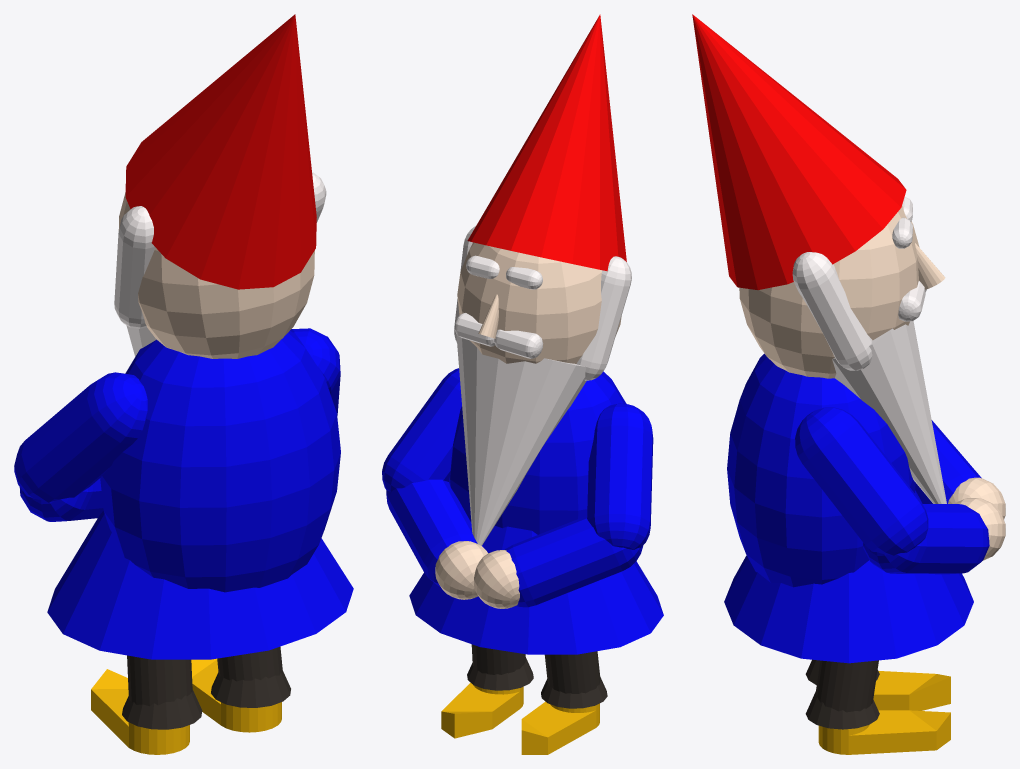
The model's file is Porsche_911_GT3.obj.
The picture shows the model from 3 angles, left to right: view 1: azimuth 30°, elevation 25°; view 2: azimuth 150°, elevation 25°; view 3: azimuth 270°, elevation 25°; orthographic projection. The views are drawn at different scales.
Visible parts, largest first — view 1: Mesh6 Component1 skpE32A1 Model, Mesh22 Component1 skpE32A1 Model, Mesh1 Component1 skpE32A1 Model, Mesh13 Component1 skpE32A1 Model, Mesh9 Component1 skpE32A1 Model, Mesh3 Component1 skpE32A1 Model, Mesh5 Component1 skpE32A1 Model, Mesh19 Component1 skpE32A1 Model, Mesh4 Component1 skpE32A1 Model, Mesh2 Component1 skpE32A1 Model, Mesh10 Component1 skpE32A1 Model, Mesh7 Component1 skpE32A1 Model; view 2: Mesh22 Component1 skpE32A1 Model, Mesh1 Component1 skpE32A1 Model, Mesh14 Component1 skpE32A1 Model, Mesh13 Component1 skpE32A1 Model, Mesh6 Component1 skpE32A1 Model, Mesh9 Component1 skpE32A1 Model, Mesh10 Component1 skpE32A1 Model, Mesh7 Component1 skpE32A1 Model, Mesh8 Component1 skpE32A1 Model, Mesh3 Component1 skpE32A1 Model, Mesh5 Component1 skpE32A1 Model, Mesh19 Component1 skpE32A1 Model (+9 smaller); view 3: Mesh22 Component1 skpE32A1 Model, Mesh6 Component1 skpE32A1 Model, Mesh1 Component1 skpE32A1 Model, Mesh13 Component1 skpE32A1 Model, Mesh7 Component1 skpE32A1 Model, Mesh14 Component1 skpE32A1 Model, Mesh5 Component1 skpE32A1 Model, Mesh8 Component1 skpE32A1 Model, Mesh18 Component1 skpE32A1 Model, Mesh3 Component1 skpE32A1 Model, Mesh10 Component1 skpE32A1 Model, Mesh4 Component1 skpE32A1 Model (+5 smaller).
Boxes of the visible parts, left/top/right/bottom form: Mesh6 Component1 skpE32A1 Model: left=100, top=330, right=340, bottom=592; Mesh22 Component1 skpE32A1 Model: left=125, top=14, right=316, bottom=289; Mesh1 Component1 skpE32A1 Model: left=47, top=510, right=353, bottom=659; Mesh13 Component1 skpE32A1 Model: left=118, top=192, right=314, bottom=358; Mesh9 Component1 skpE32A1 Model: left=14, top=372, right=147, bottom=502; Mesh3 Component1 skpE32A1 Model: left=91, top=655, right=192, bottom=754; Mesh5 Component1 skpE32A1 Model: left=191, top=646, right=282, bottom=732; Mesh19 Component1 skpE32A1 Model: left=114, top=206, right=155, bottom=328; Mesh4 Component1 skpE32A1 Model: left=211, top=670, right=290, bottom=707; Mesh2 Component1 skpE32A1 Model: left=122, top=690, right=202, bottom=729; Mesh10 Component1 skpE32A1 Model: left=19, top=478, right=103, bottom=521; Mesh7 Component1 skpE32A1 Model: left=290, top=328, right=340, bottom=415; Mesh22 Component1 skpE32A1 Model: left=467, top=14, right=626, bottom=271; Mesh1 Component1 skpE32A1 Model: left=409, top=526, right=663, bottom=654; Mesh14 Component1 skpE32A1 Model: left=456, top=334, right=586, bottom=545; Mesh13 Component1 skpE32A1 Model: left=457, top=242, right=621, bottom=363; Mesh6 Component1 skpE32A1 Model: left=449, top=371, right=626, bottom=534; Mesh9 Component1 skpE32A1 Model: left=587, top=403, right=653, bottom=549; Mesh10 Component1 skpE32A1 Model: left=505, top=516, right=642, bottom=607; Mesh7 Component1 skpE32A1 Model: left=382, top=368, right=461, bottom=491; Mesh8 Component1 skpE32A1 Model: left=386, top=479, right=483, bottom=586; Mesh3 Component1 skpE32A1 Model: left=521, top=651, right=600, bottom=754; Mesh5 Component1 skpE32A1 Model: left=441, top=644, right=525, bottom=738; Mesh19 Component1 skpE32A1 Model: left=576, top=256, right=631, bottom=380; Mesh22 Component1 skpE32A1 Model: left=692, top=14, right=906, bottom=289; Mesh6 Component1 skpE32A1 Model: left=727, top=353, right=915, bottom=587; Mesh1 Component1 skpE32A1 Model: left=724, top=490, right=973, bottom=663; Mesh13 Component1 skpE32A1 Model: left=739, top=205, right=919, bottom=378; Mesh7 Component1 skpE32A1 Model: left=795, top=407, right=928, bottom=555; Mesh14 Component1 skpE32A1 Model: left=832, top=321, right=946, bottom=503; Mesh5 Component1 skpE32A1 Model: left=815, top=660, right=950, bottom=754; Mesh8 Component1 skpE32A1 Model: left=863, top=504, right=989, bottom=574; Mesh18 Component1 skpE32A1 Model: left=792, top=252, right=872, bottom=370; Mesh3 Component1 skpE32A1 Model: left=873, top=671, right=950, bottom=710; Mesh10 Component1 skpE32A1 Model: left=915, top=420, right=981, bottom=503; Mesh4 Component1 skpE32A1 Model: left=805, top=691, right=879, bottom=729.
Bounding box in the file's own units: 4820 × 11406 × 4559.
